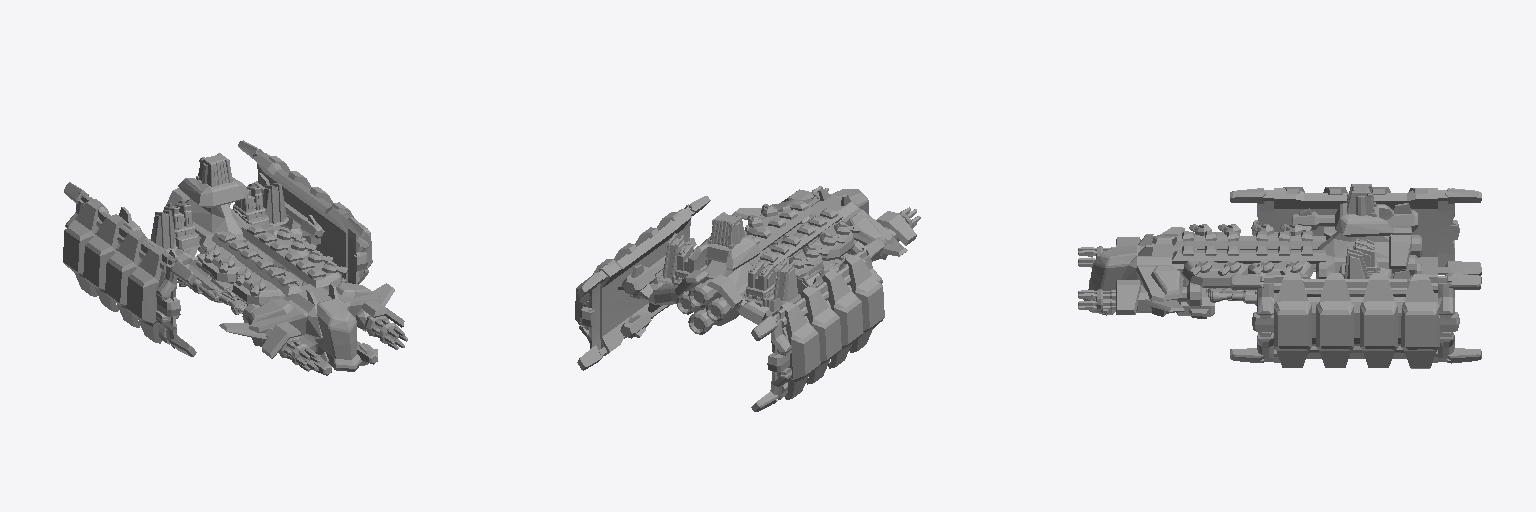
File: Battlecruiser.obj
3 views of the same model, side by side, from view 1: azimuth 30°, elevation 25°; view 2: azimuth 150°, elevation 25°; view 3: azimuth 270°, elevation 25° (orthographic).
Parts seen in each view (by area): view 1: Shadow_SuperStarDestroyer.m3.014; view 2: Shadow_SuperStarDestroyer.m3.014; view 3: Shadow_SuperStarDestroyer.m3.014.
Part boxes in pixels (x1,y1,x2,y2): Shadow_SuperStarDestroyer.m3.014: (63,140,407,375); Shadow_SuperStarDestroyer.m3.014: (575,186,920,411); Shadow_SuperStarDestroyer.m3.014: (1078,184,1481,368).
Bounding box in the file's own units: 5.73 × 3.21 × 8.64.